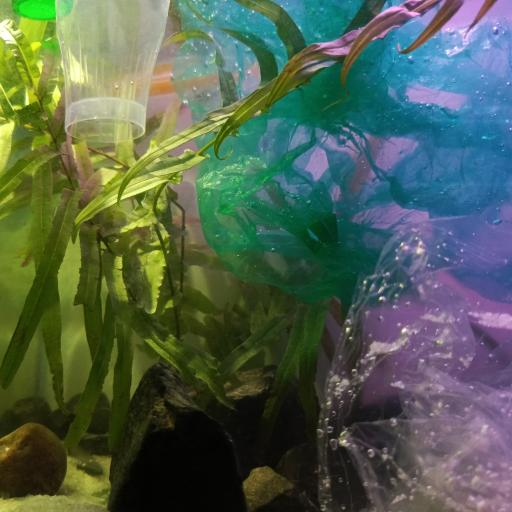bottle_cap: (10, 0, 70, 20)
plastic_bag: (175, 0, 512, 304), (317, 212, 512, 512)
plastic_cup: (56, 0, 170, 144)
